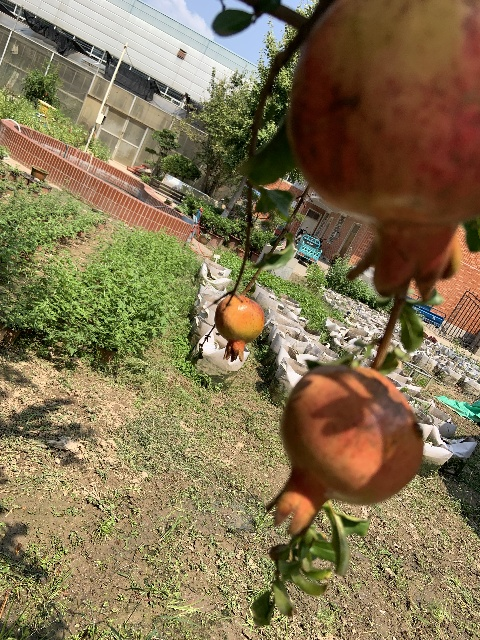ripe: (286, 0, 478, 296), (266, 366, 424, 535), (213, 294, 264, 361)
